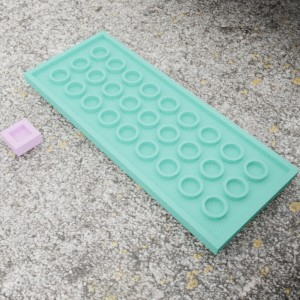lego: (23, 30, 300, 255), (0, 117, 43, 156)
